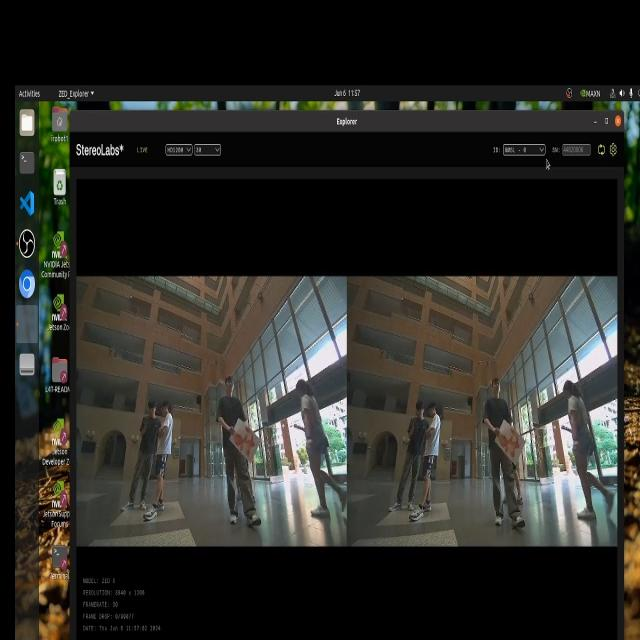red: (230, 423, 268, 457), (496, 421, 528, 458)
